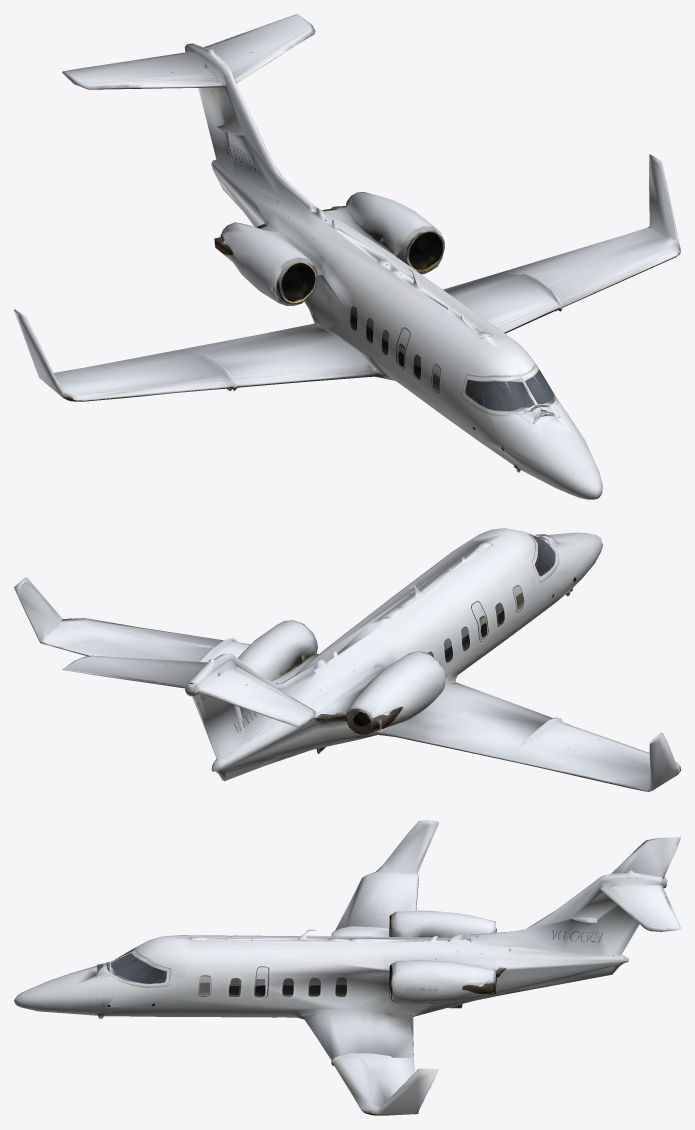
File: learjet.glb
3 renders of one model, top to bottom at view 1: azimuth 30°, elevation 25°; view 2: azimuth 150°, elevation 25°; view 3: azimuth 270°, elevation 25°, orthographic. The views are drawn at different scales.
Visible parts, largest first — view 1: node_0; view 2: node_0; view 3: node_0.
Part boxes in pixels (x1,y1,x2,y2): node_0: (14,14,680,499); node_0: (14,528,680,791); node_0: (14,820,680,1115).
Size of the model in its own units: 0.9882 by 0.2727 by 1.12.
1 material, 1 textured.
